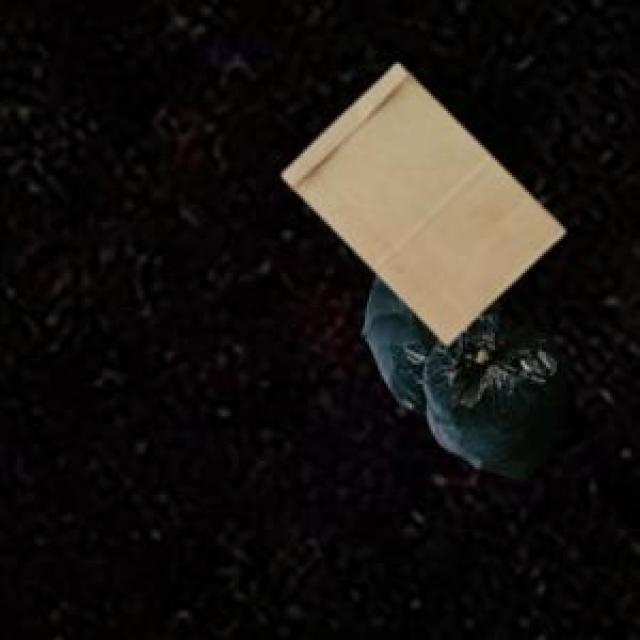miscellaneous trash: (358, 271, 563, 474)
paper: (280, 60, 561, 339)
